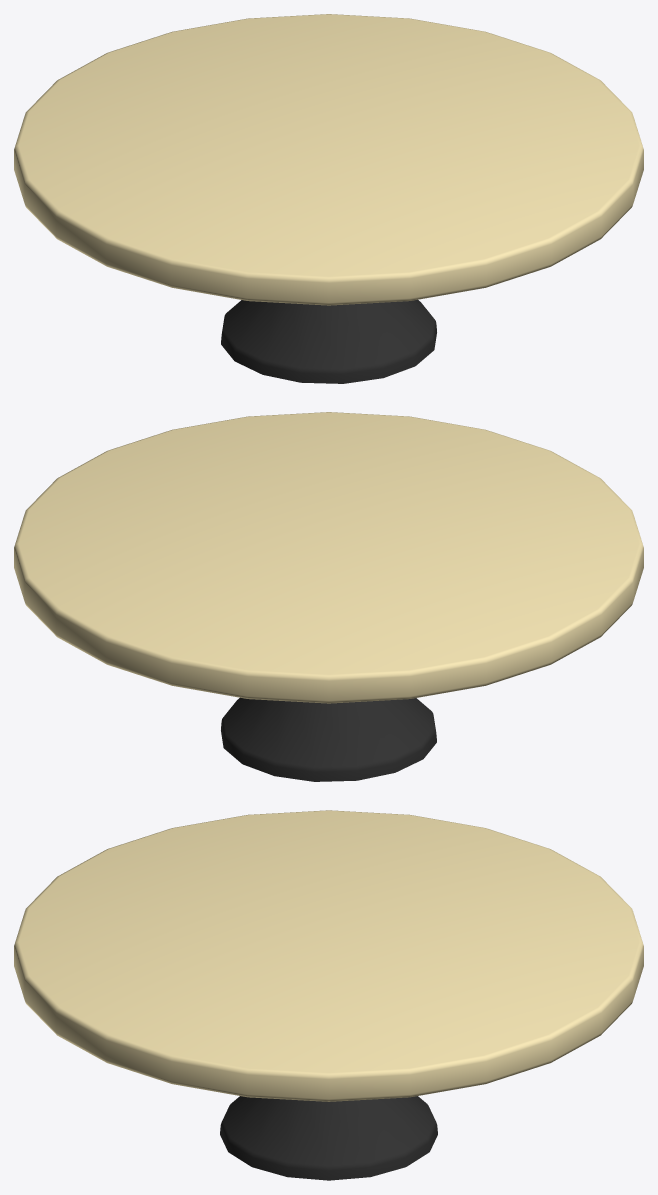
The model's file is canzhuo_02.FBX.
3 views of the same model, one above another, from view 1: azimuth 30°, elevation 25°; view 2: azimuth 150°, elevation 25°; view 3: azimuth 270°, elevation 25° (orthographic).
Parts seen in each view (by area): view 1: canzhuo_02; view 2: canzhuo_02; view 3: canzhuo_02.
Part boxes in pixels (<box>): canzhuo_02: <box>14,14,643,383</box>; canzhuo_02: <box>14,412,643,781</box>; canzhuo_02: <box>14,810,643,1180</box>.
Bounding box in the file's own units: 100 × 33.75 × 100.
